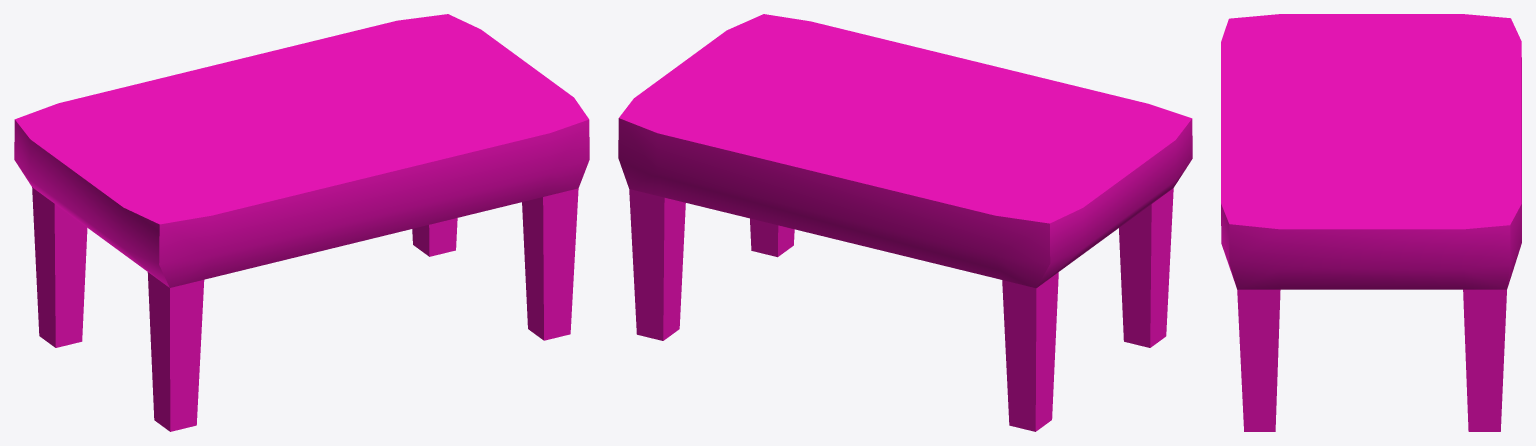
Rendered from study_table_2_meshCollider.fbx.
3 renders of one model, left to right at view 1: azimuth 30°, elevation 25°; view 2: azimuth 150°, elevation 25°; view 3: azimuth 270°, elevation 25°, orthographic. The views are drawn at different scales.
Parts seen in each view (by area): view 1: study_table_2_meshCollider; view 2: study_table_2_meshCollider; view 3: study_table_2_meshCollider.
Boxes of the visible parts, x1=… form: study_table_2_meshCollider: x1=14, y1=14, x2=589, y2=431; study_table_2_meshCollider: x1=618, y1=14, x2=1192, y2=431; study_table_2_meshCollider: x1=1221, y1=14, x2=1521, y2=431.
Size of the model in its own units: 92.87 by 42.78 by 54.7.
